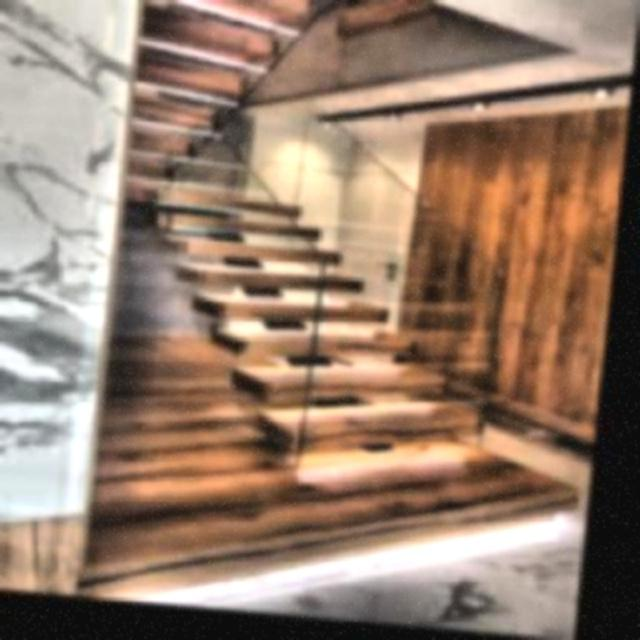stair: (144, 197, 558, 492)
